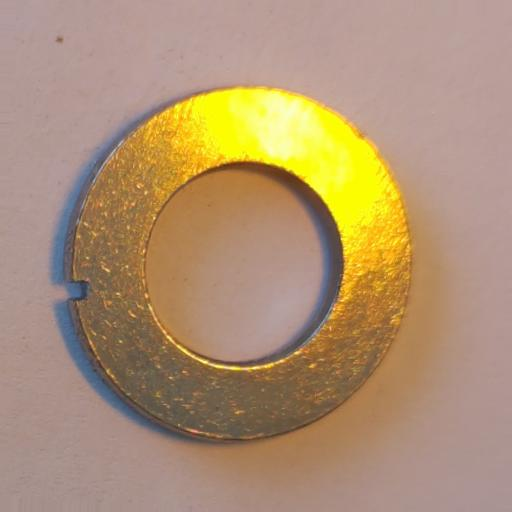burr: (62, 278, 90, 303)
